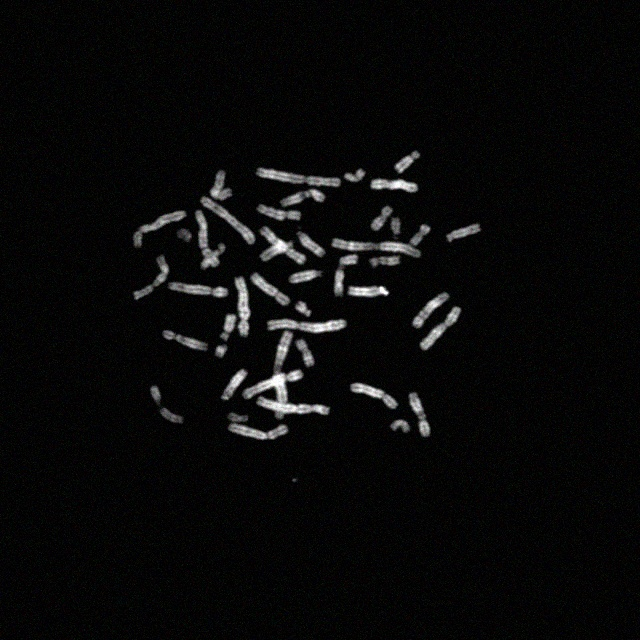chromosome: (201, 196, 255, 244), (133, 210, 184, 248), (420, 305, 460, 351), (244, 370, 304, 398), (260, 226, 304, 264), (331, 239, 421, 257), (134, 254, 168, 300), (256, 168, 340, 186), (411, 292, 449, 330), (250, 272, 290, 306), (351, 382, 397, 410), (150, 385, 182, 425), (196, 210, 218, 266), (266, 318, 346, 332), (229, 424, 289, 441), (334, 253, 358, 295), (408, 392, 429, 436), (164, 330, 208, 350), (282, 188, 324, 208), (168, 282, 227, 296), (274, 330, 294, 370), (256, 396, 298, 414), (298, 231, 326, 257), (222, 370, 246, 400), (257, 204, 301, 220), (200, 243, 225, 269), (274, 374, 288, 418), (446, 224, 480, 242), (212, 170, 232, 200), (371, 206, 393, 232), (262, 242, 293, 260), (396, 152, 420, 172), (370, 180, 418, 190), (236, 276, 250, 310), (290, 269, 322, 283), (298, 339, 314, 367), (410, 224, 430, 246), (348, 286, 389, 296), (220, 314, 235, 340), (238, 306, 250, 336), (371, 256, 399, 268), (298, 404, 330, 414), (344, 169, 364, 183), (390, 421, 410, 434), (296, 302, 312, 316), (177, 229, 191, 243), (227, 413, 248, 422), (215, 344, 228, 358), (391, 218, 401, 235)
